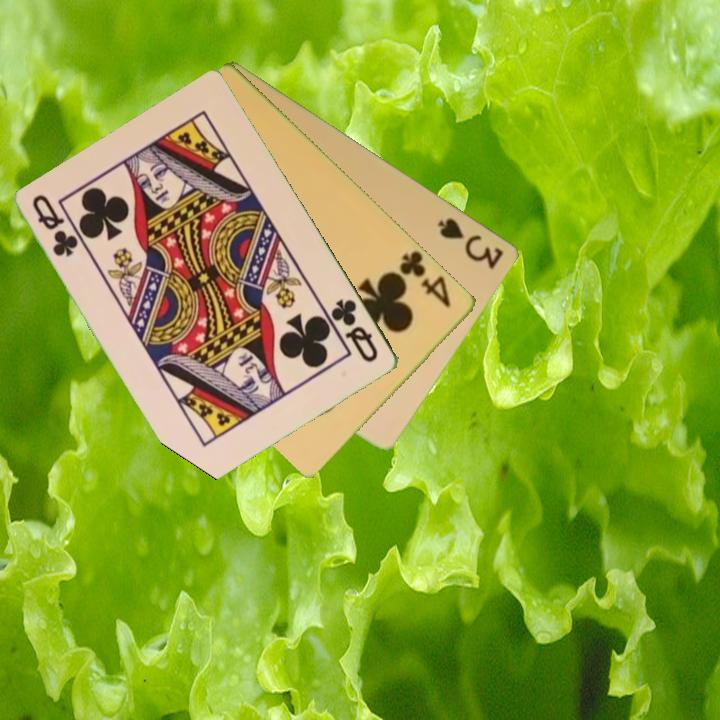3s: (434, 214, 508, 272)
4c: (396, 247, 454, 311)
Qc: (327, 295, 382, 366), (29, 190, 81, 260)
